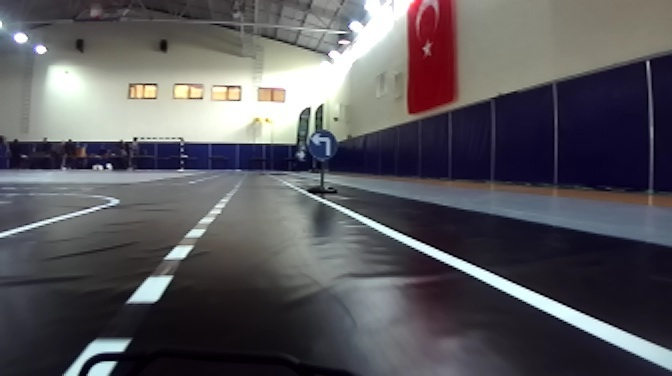sola_donus: (309, 127, 337, 159)
